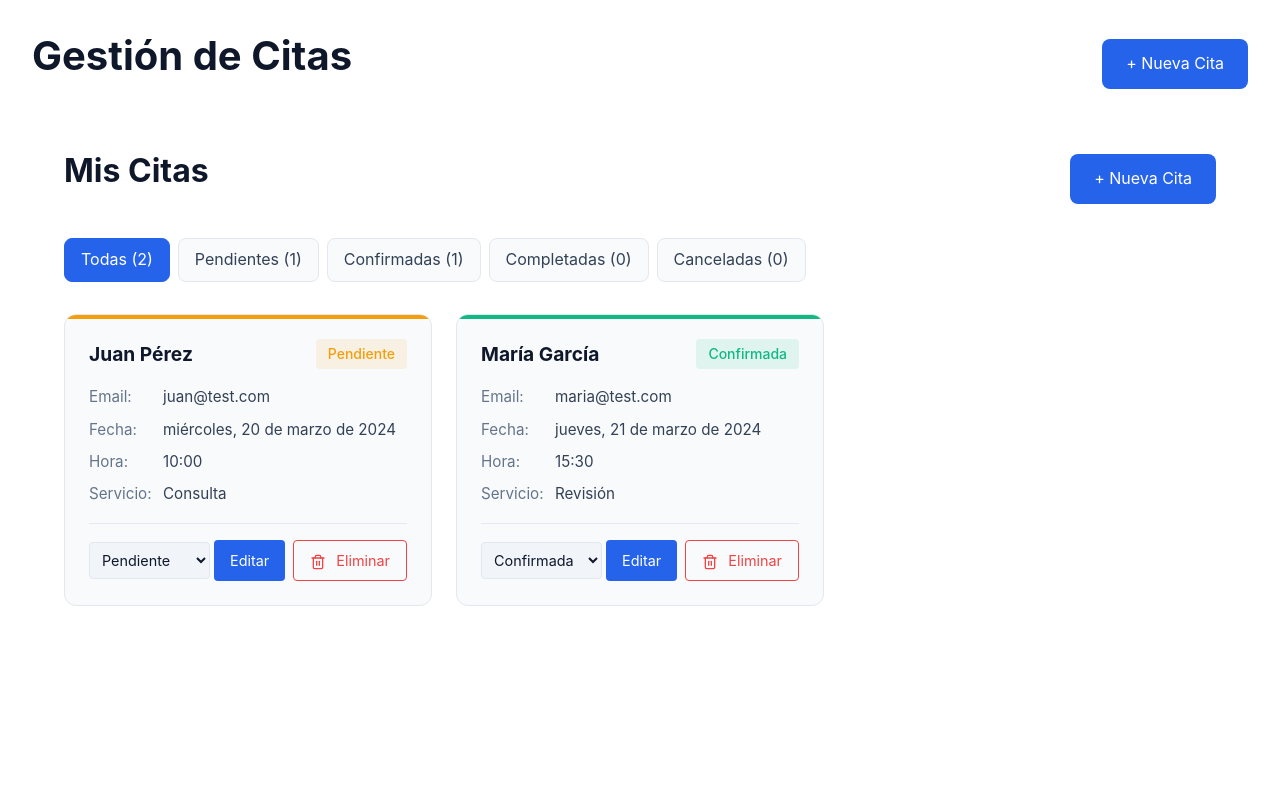
Test case: Flujo de Citas › debe abrir modal para nueva cita
Check: the heading "Juan Pérez" is shown, box [89,343,193,366]
Note: HAY DOS BOTONES "NUEVA CITA" - USAR EL PRIMERO
Click the button "+ Nueva Cita" in the row of "Gestión de Citas" at (1175, 64), box [1102,39,1248,89]
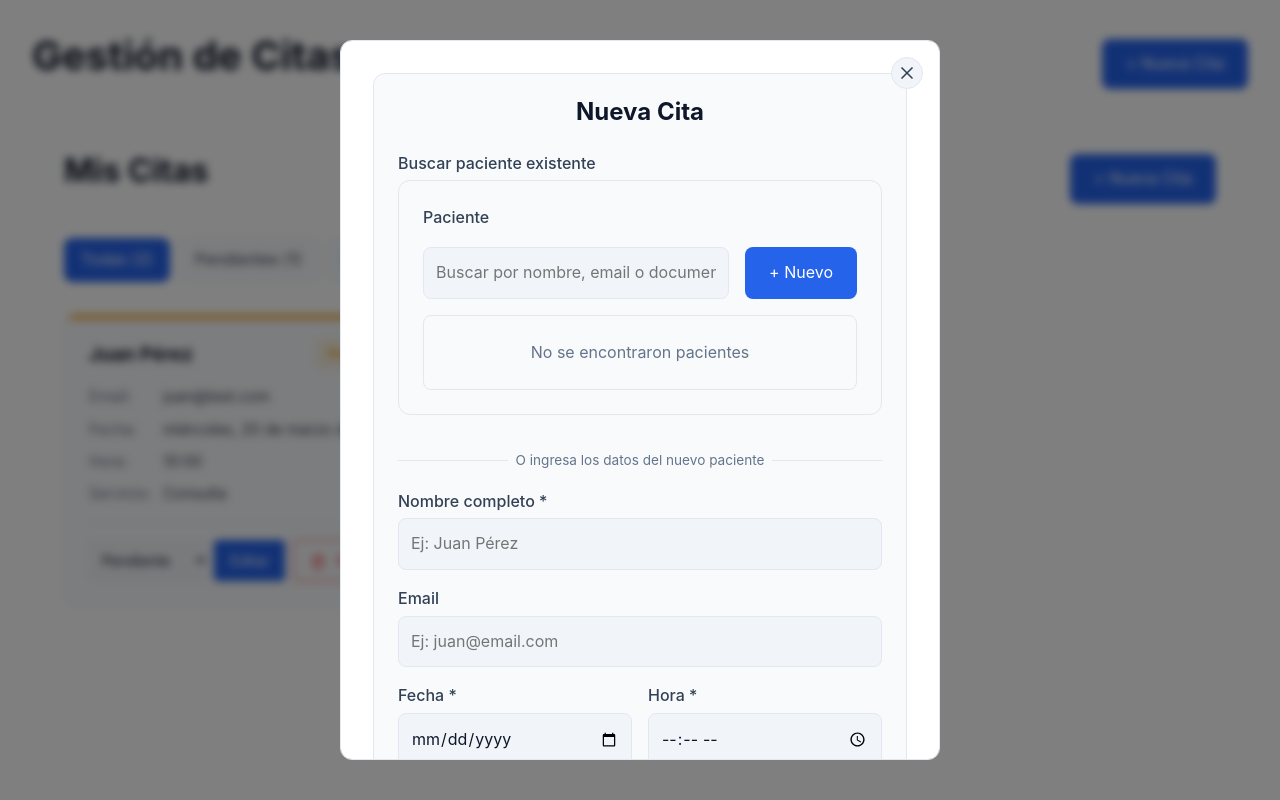
Check: the heading "Nueva Cita" is shown, box [576,97,704,126]
